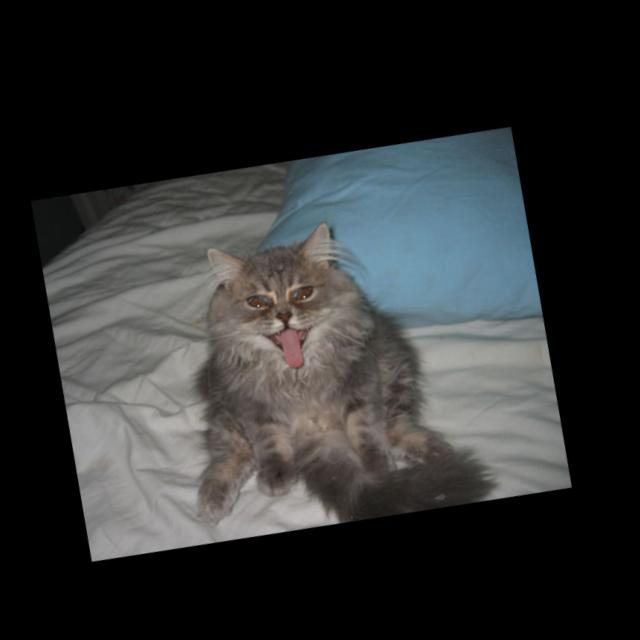animals: (205, 208, 346, 331)
